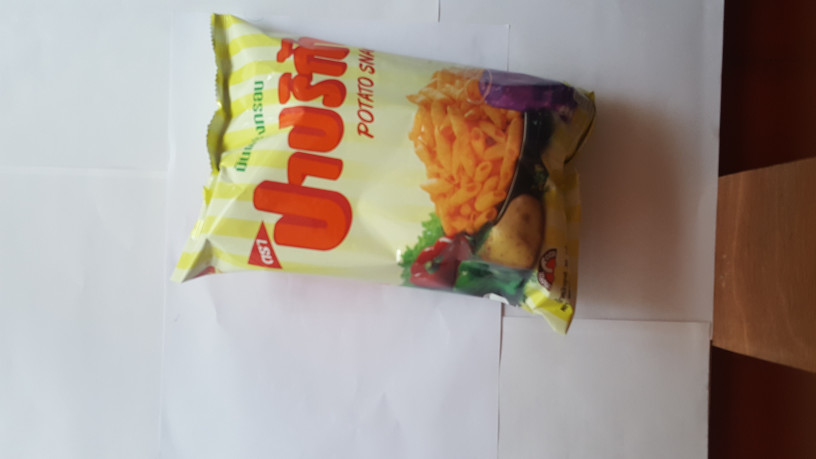paprika: (159, 9, 635, 343)
